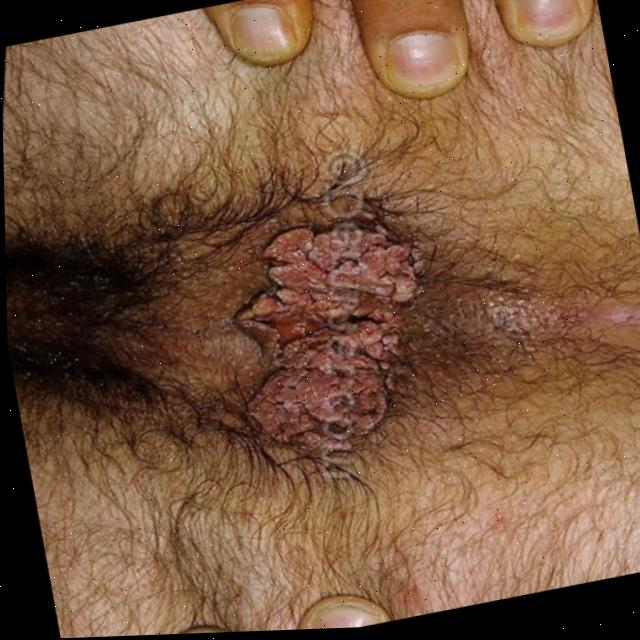Shingles: (246, 196, 451, 471)
